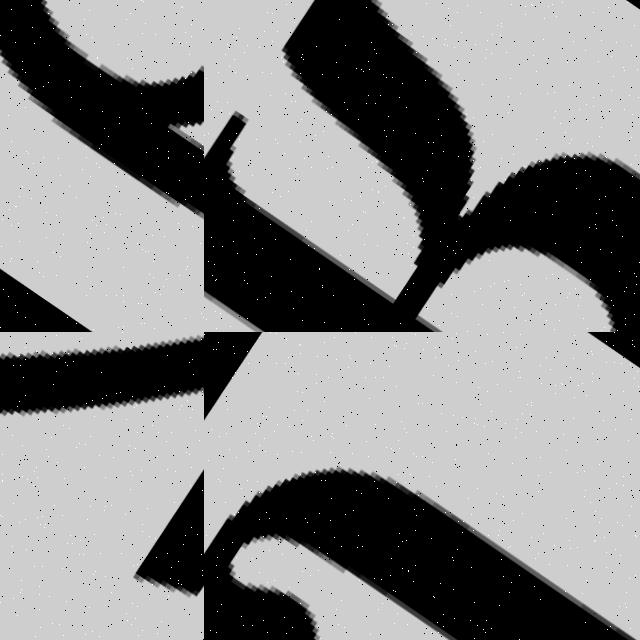6: (0, 0, 204, 329)
7: (0, 332, 204, 640)
J: (204, 348, 640, 640)
R: (204, 0, 640, 332)
